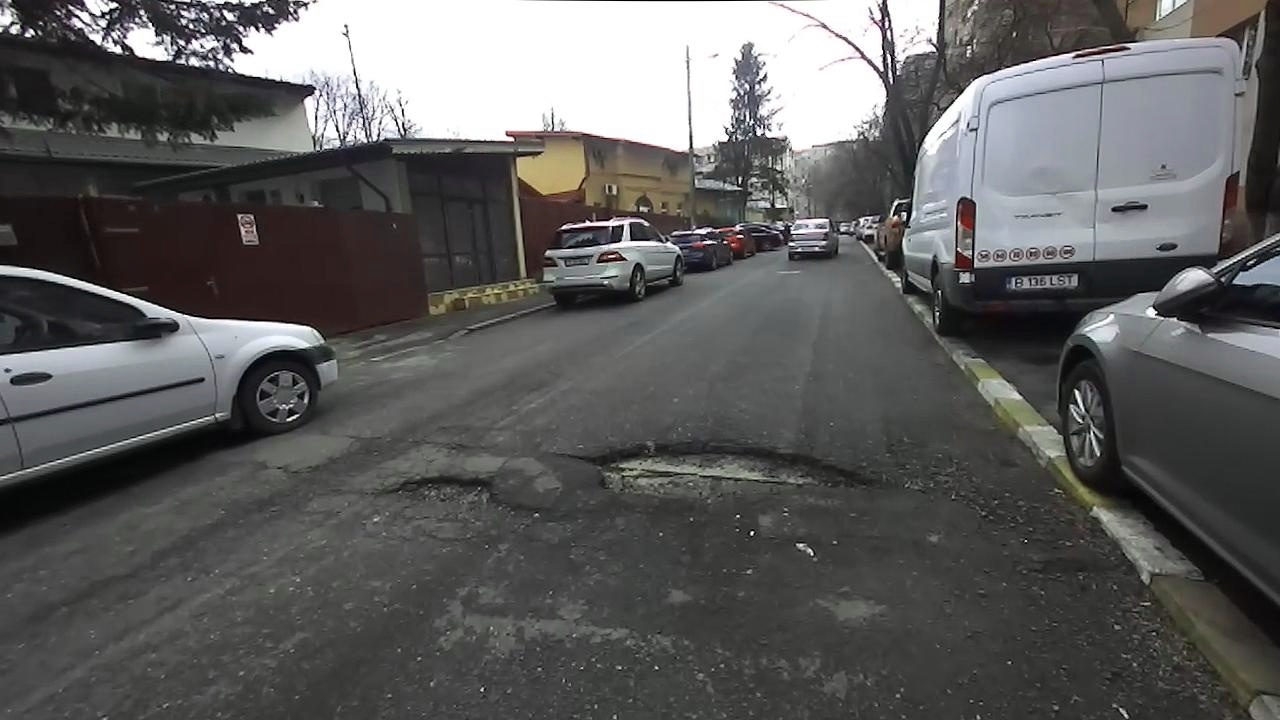pothole: (560, 430, 896, 506), (382, 468, 530, 511)
